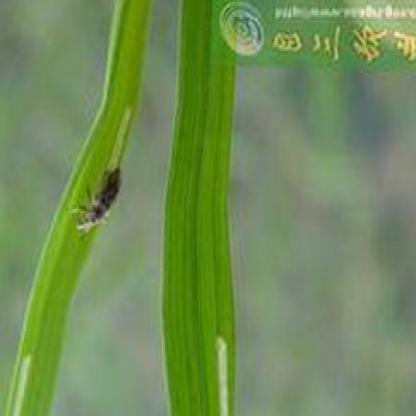rice-bug: (75, 162, 125, 234)
